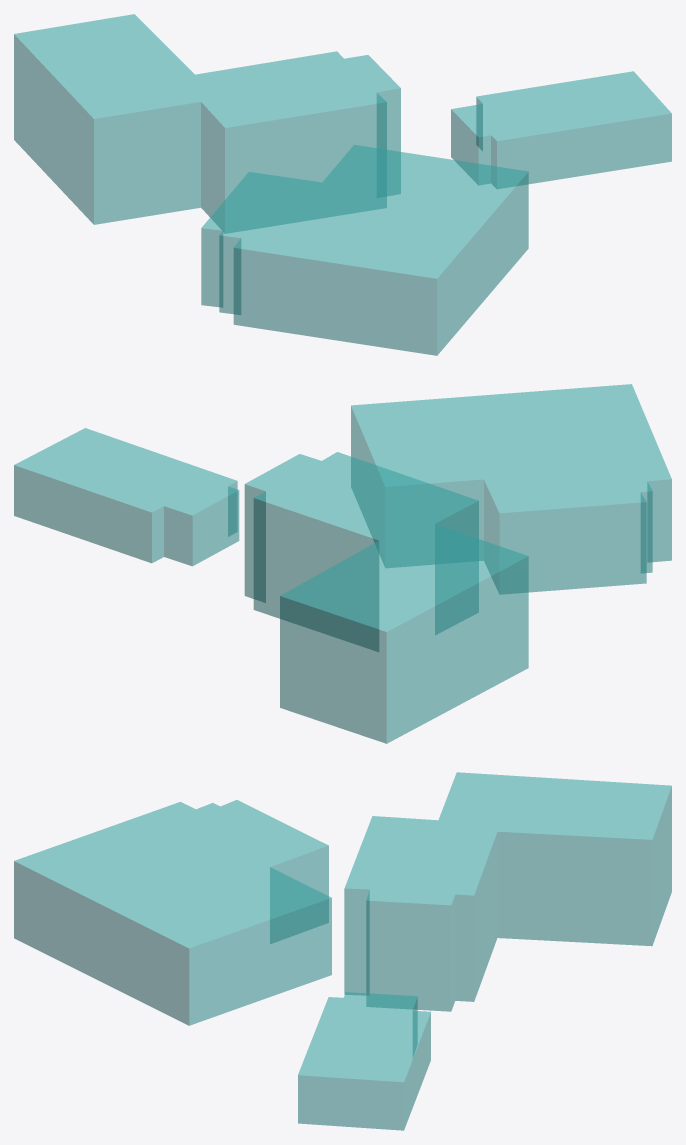
The model's file is pearl_buildings.glb.
The picture shows the model from 3 angles, top to bottom: view 1: azimuth 30°, elevation 25°; view 2: azimuth 150°, elevation 25°; view 3: azimuth 270°, elevation 25°; orthographic projection. The views are drawn at different scales.
Parts seen in each view (by area): view 1: Rectangle, Building South, Bottling Department Food Hall; view 2: Rectangle, Building South, Bottling Department Food Hall; view 3: Rectangle, Building South, Bottling Department Food Hall.
Part boxes in pixels (bbox=[...]): Rectangle: bbox=[14, 14, 400, 233]; Building South: bbox=[201, 144, 528, 355]; Bottling Department Food Hall: bbox=[451, 71, 671, 188]; Rectangle: bbox=[244, 452, 528, 743]; Building South: bbox=[351, 384, 671, 594]; Bottling Department Food Hall: bbox=[14, 428, 239, 566]; Rectangle: bbox=[344, 772, 671, 1011]; Building South: bbox=[14, 800, 331, 1025]; Bottling Department Food Hall: bbox=[298, 992, 430, 1130].
Bounding box in the file's own units: 11.21 × 2.21 × 12.34.
